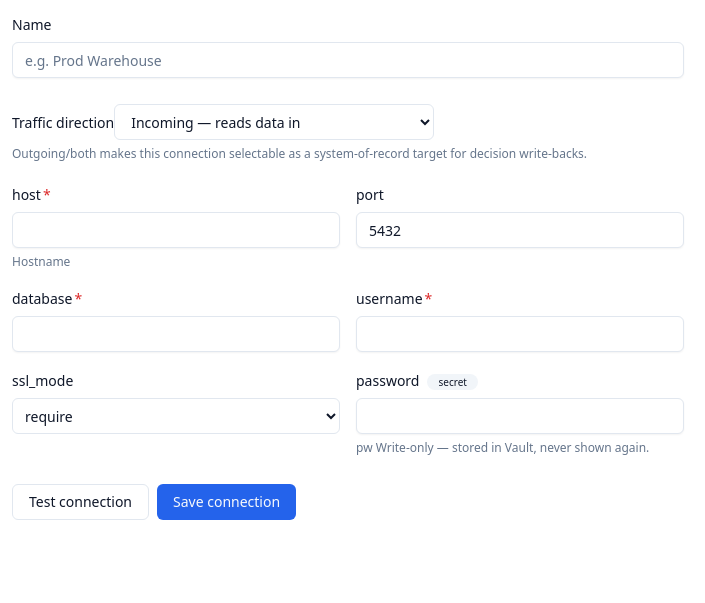
it: Test Connection surfaces the real probe result › shows OK when the probe succeeds
Type "db.internal" into the field labelled "host*".
click(176, 230); type("db.internal")  # box 12,212 -> 340,248
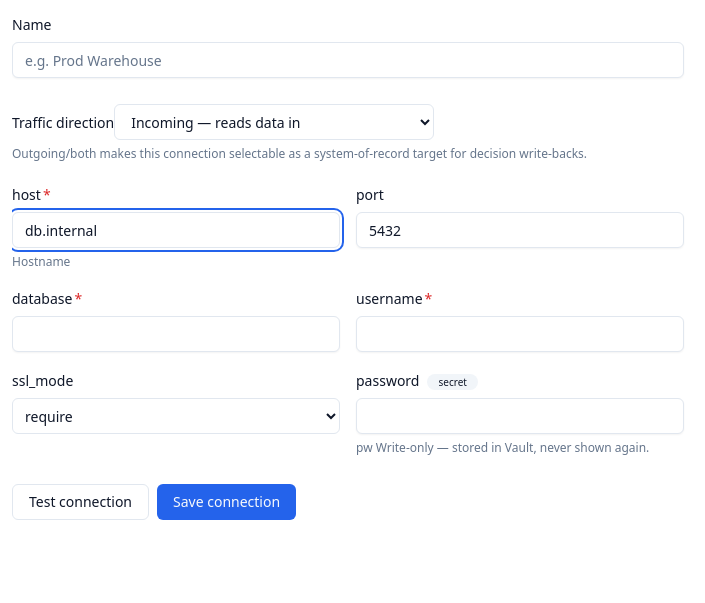
Type "sales" into the field labelled "database*".
click(176, 334); type("sales")  # box 12,316 -> 340,352
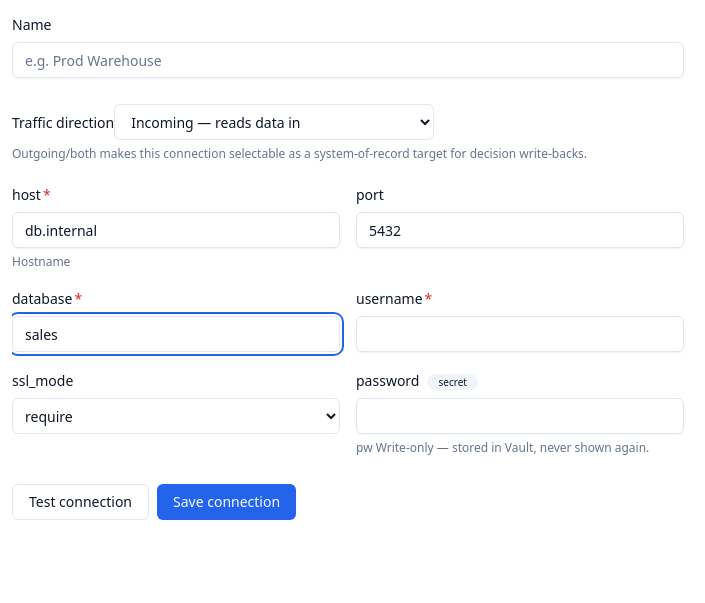
Type "ro" into the field labelled "username*".
click(520, 334); type("ro")  # box 356,316 -> 684,352
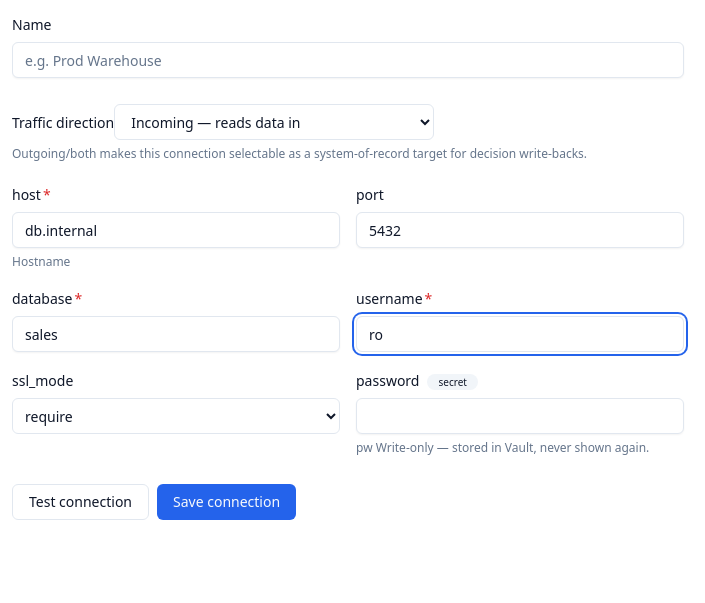
Type "s3cr3t" into the password field labelled "password secret".
click(520, 416); type("s3cr3t")  # box 356,398 -> 684,434
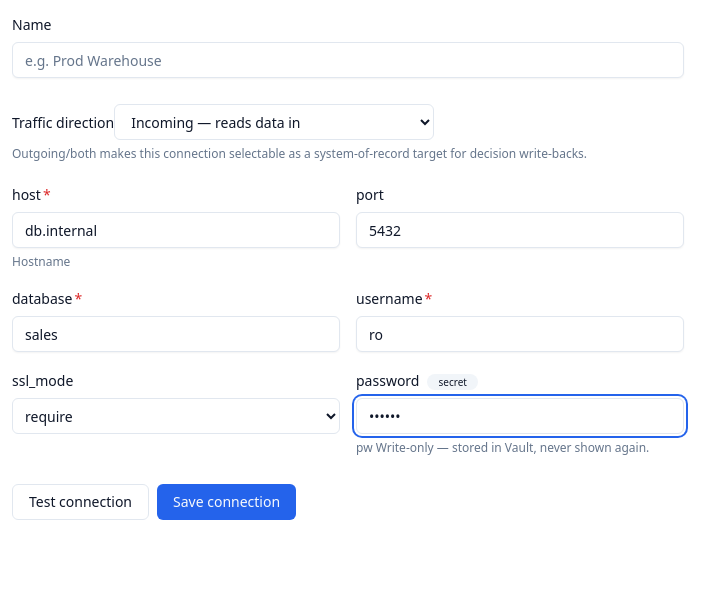
Click the button "Test connection".
click(80, 502)  # box 12,484 -> 149,520
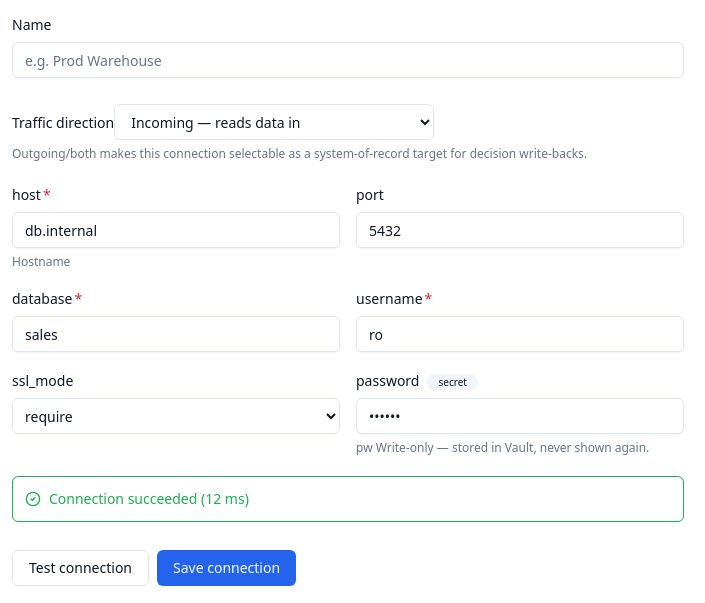
Now the message with test id "test-result" shows "succeeded", box 49,489 -> 249,508
